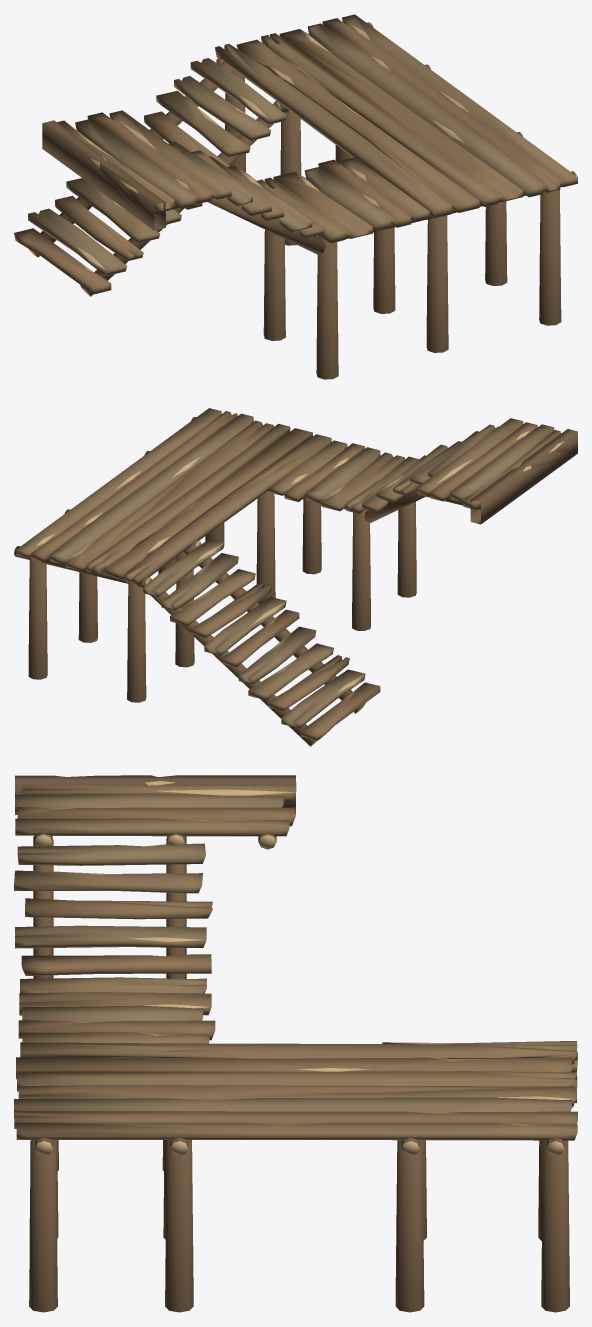
File: rpgpp_ag_stairs_interior_01d_3m.fbx
3 renders of one model, top to bottom at view 1: azimuth 30°, elevation 25°; view 2: azimuth 150°, elevation 25°; view 3: azimuth 270°, elevation 25°, orthographic. The views are drawn at different scales.
Visible parts, largest first — view 1: rpgpp_ag_stairs_interior_01d_3m; view 2: rpgpp_ag_stairs_interior_01d_3m; view 3: rpgpp_ag_stairs_interior_01d_3m.
Part boxes in pixels (x1,y1,x2,y2): rpgpp_ag_stairs_interior_01d_3m: (14, 14, 577, 379); rpgpp_ag_stairs_interior_01d_3m: (14, 408, 577, 746); rpgpp_ag_stairs_interior_01d_3m: (14, 775, 577, 1312).
Bounding box in the file's own units: 6.22 × 3.18 × 5.6.
